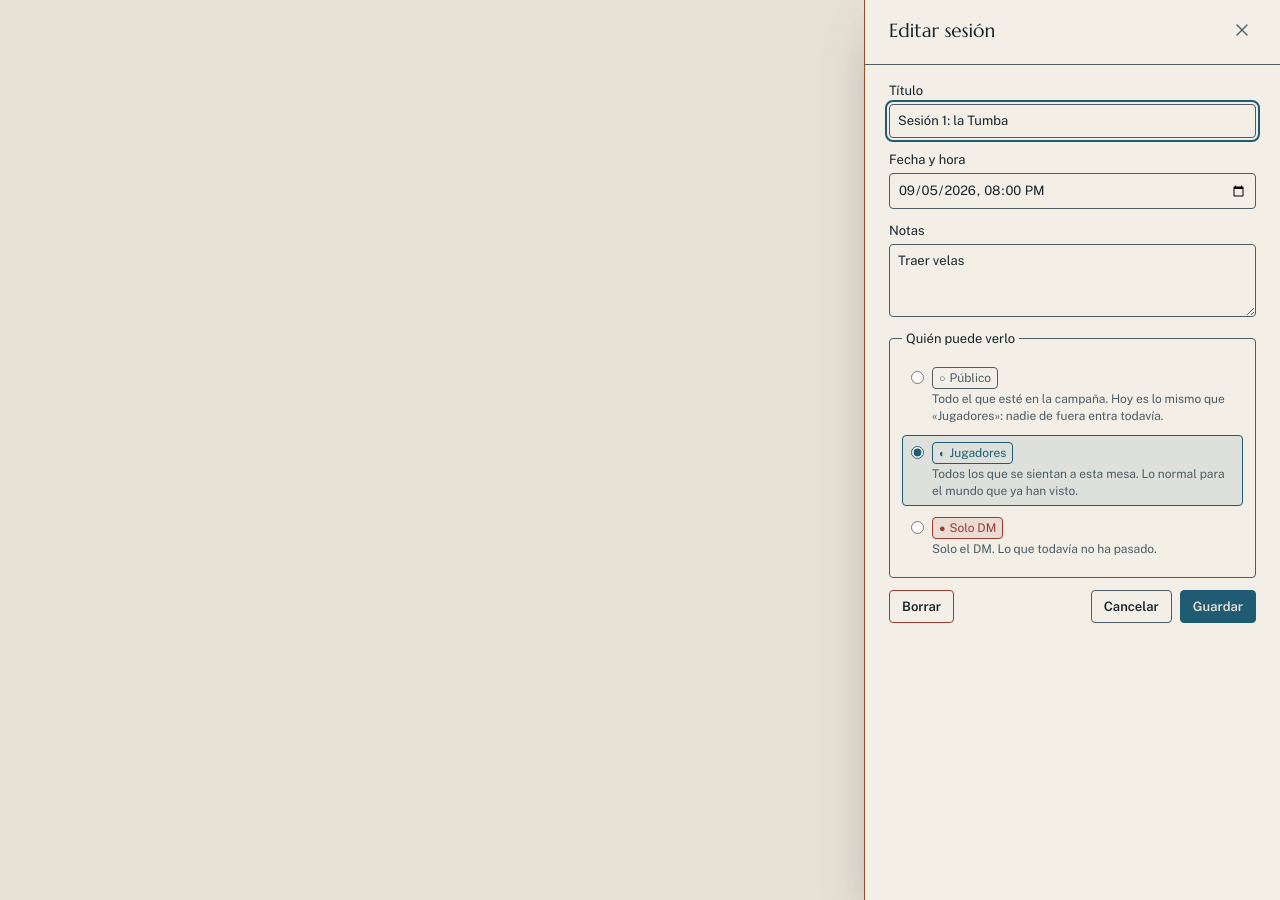
Test: SessionEditor (edit) › shows the server error instead of failing silently
Click the button "Guardar".
click(1218, 607)  # box [1180, 590, 1256, 623]
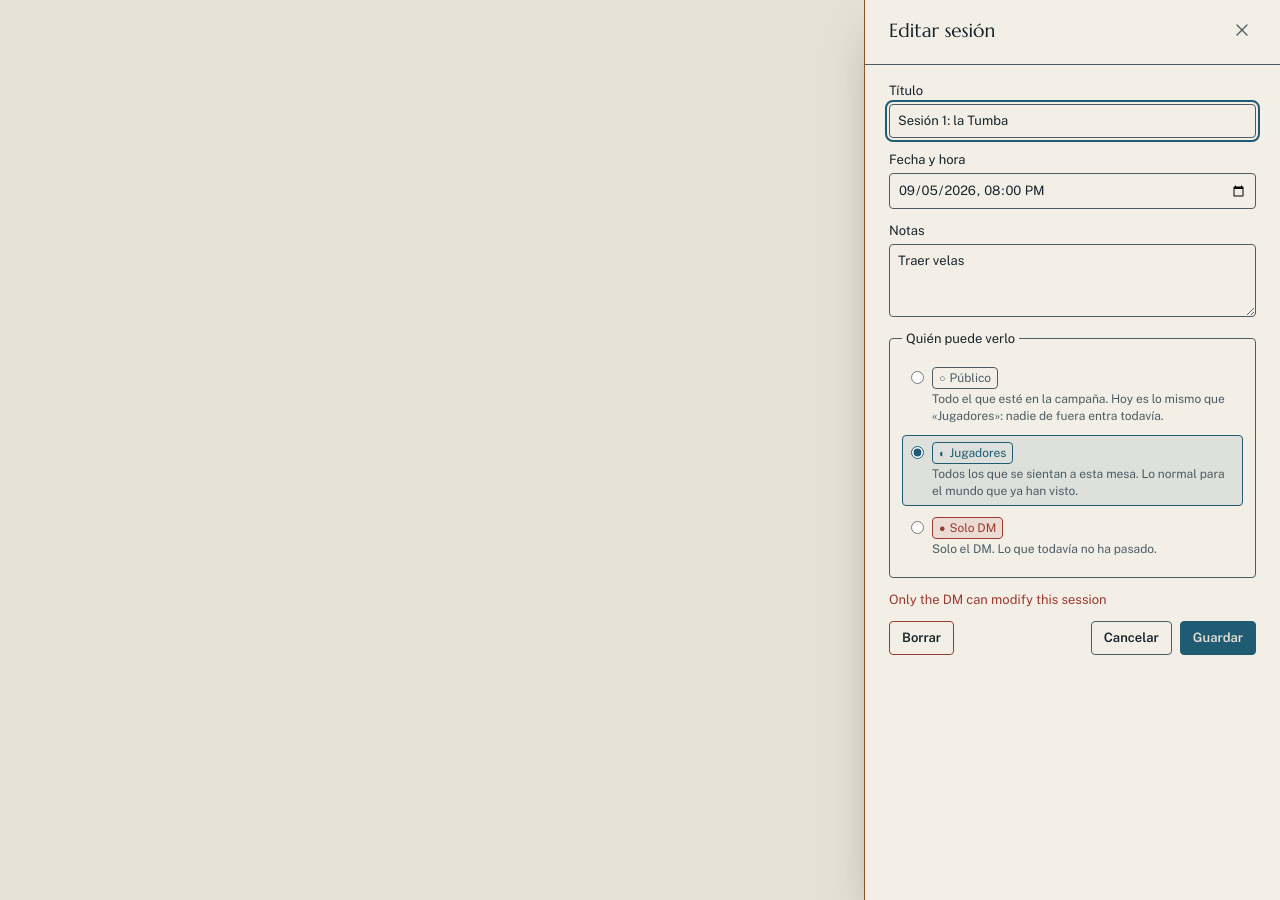
Result: the text "Only the DM can modify this session" is shown at [889, 592, 1107, 607]
